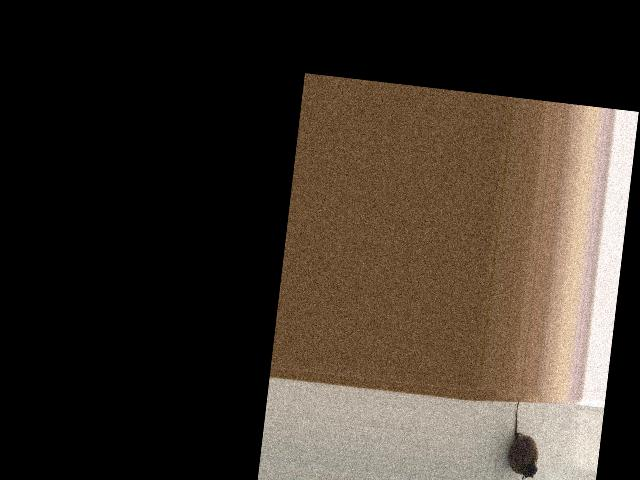beet: (504, 398, 544, 480)
